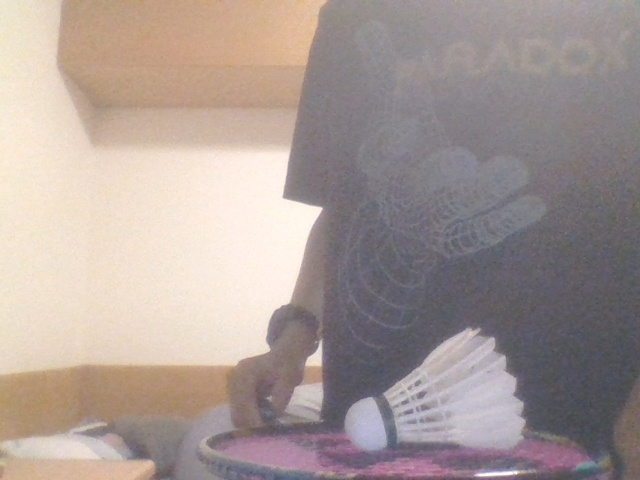human: (228, 2, 640, 480)
racket: (195, 392, 603, 480)
shuttle: (344, 326, 527, 453)
